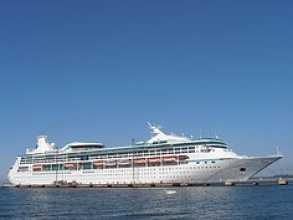youlun: (5, 113, 290, 186)
